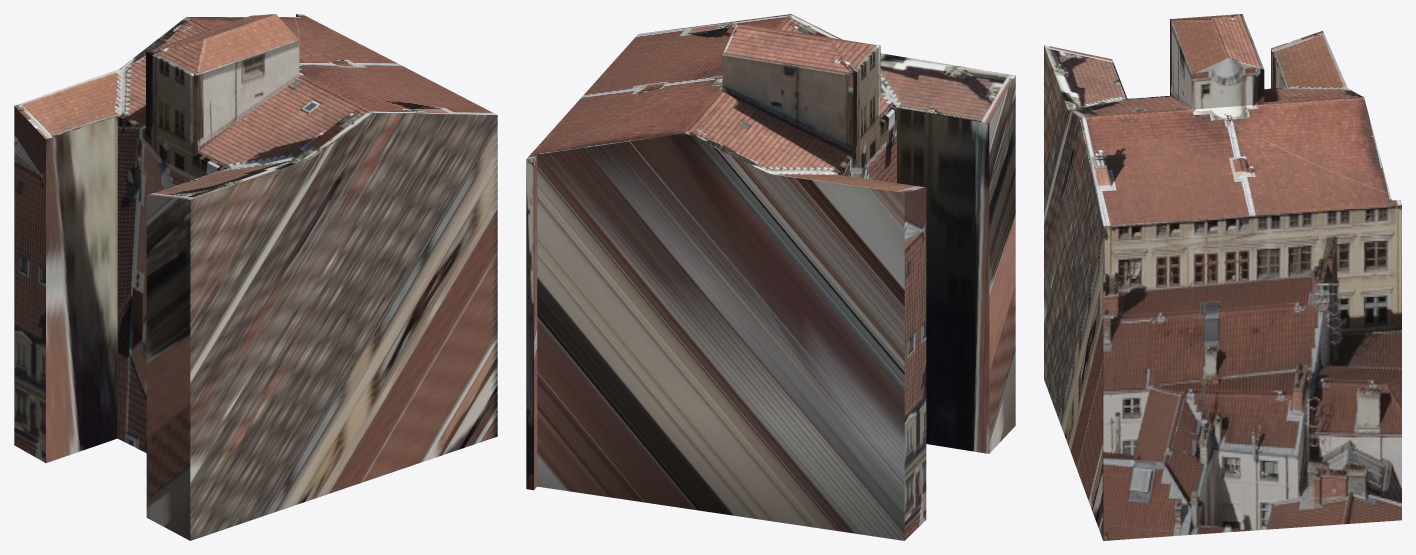
3 renders of one model, left to right at view 1: azimuth 30°, elevation 25°; view 2: azimuth 150°, elevation 25°; view 3: azimuth 270°, elevation 25°, orthographic. The views are drawn at different scales.
Visible parts, largest first — view 1: Z_UP; view 2: Z_UP; view 3: Z_UP.
Boxes of the visible parts, x1,y1,x2,y2 form: Z_UP: (14, 14, 497, 540); Z_UP: (526, 14, 1015, 540); Z_UP: (1044, 14, 1401, 540).
Bounding box in the file's own units: 27.21 × 29.04 × 23.16.
Materials: 2 (1 with a texture image).
